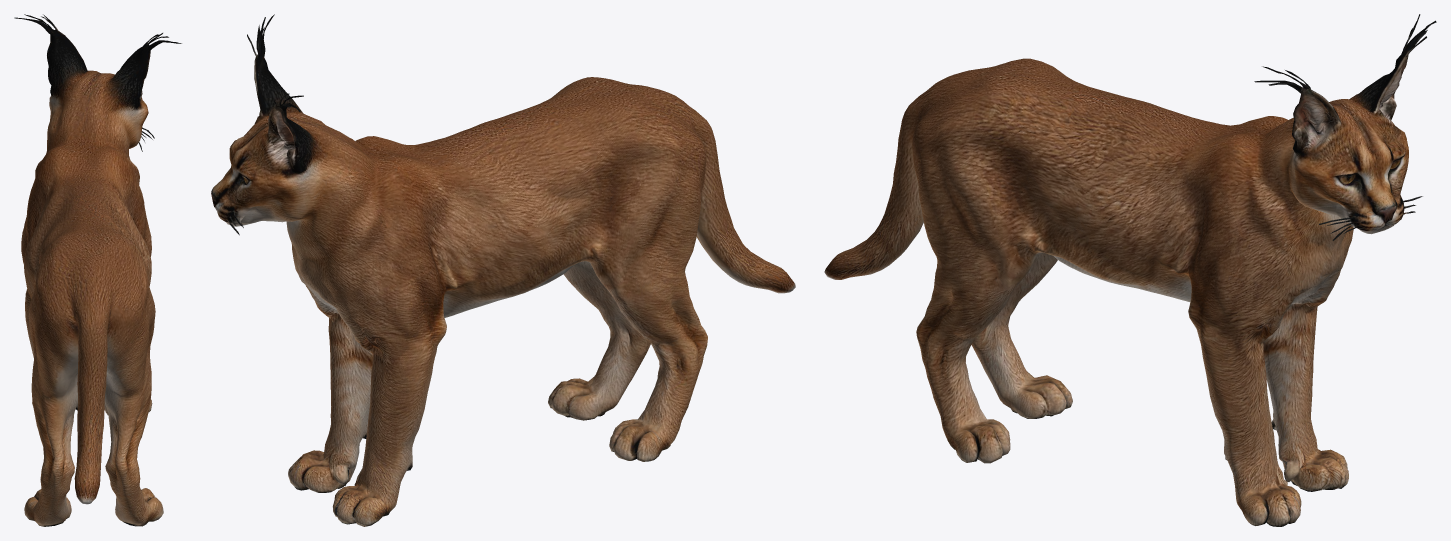
File: caracal.glb
3 renders of one model, left to right at view 1: azimuth 30°, elevation 25°; view 2: azimuth 150°, elevation 25°; view 3: azimuth 270°, elevation 25°, orthographic. The views are drawn at different scales.
Parts seen in each view (by area): view 1: tripo_node_af34f657-bc98-4673-aa8f-29fe8009200e; view 2: tripo_node_af34f657-bc98-4673-aa8f-29fe8009200e; view 3: tripo_node_af34f657-bc98-4673-aa8f-29fe8009200e.
Boxes of the visible parts, left/top/right/bottom form: tripo_node_af34f657-bc98-4673-aa8f-29fe8009200e: left=14, top=14, right=181, bottom=526; tripo_node_af34f657-bc98-4673-aa8f-29fe8009200e: left=211, top=14, right=795, bottom=526; tripo_node_af34f657-bc98-4673-aa8f-29fe8009200e: left=824, top=14, right=1436, bottom=526.
Size of the model in its own units: 0.6488 by 0.8595 by 1.
1 material, 1 textured.
